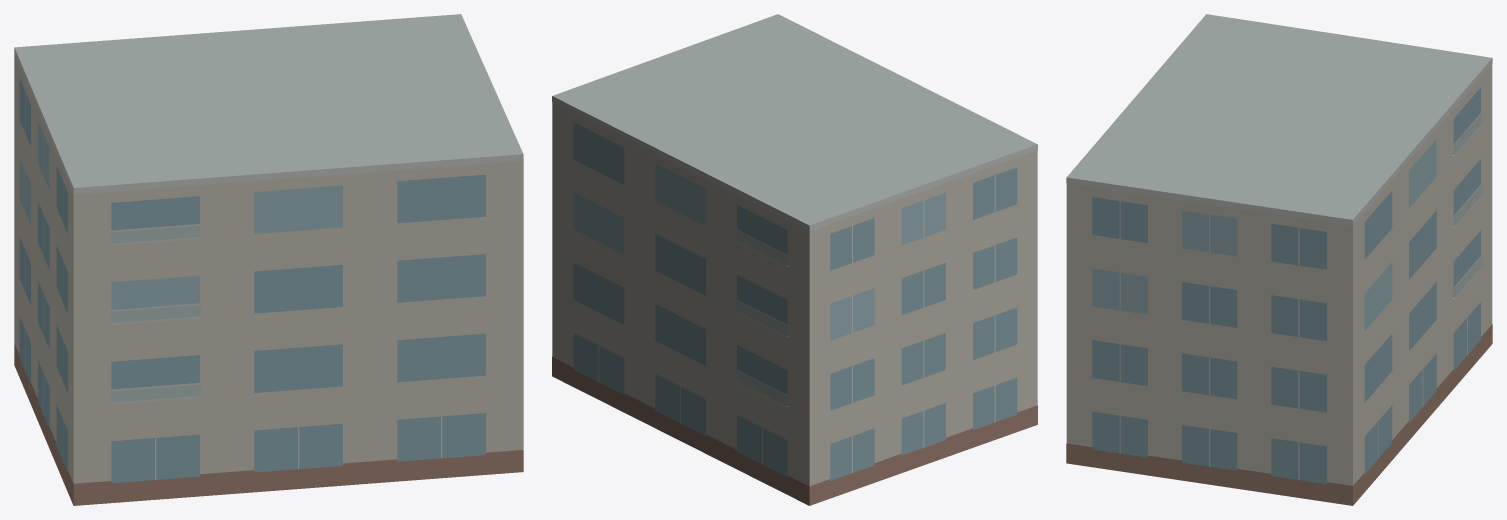
The model's file is survey-upis-32934740.glb.
The picture shows the model from 3 angles, left to right: view 1: azimuth 30°, elevation 25°; view 2: azimuth 150°, elevation 25°; view 3: azimuth 270°, elevation 25°; orthographic projection. The views are drawn at different scales.
Visible parts, largest first — view 1: survey-upis-32934740.tmp; view 2: survey-upis-32934740.tmp; view 3: survey-upis-32934740.tmp.
Boxes of the visible parts, x1,y1,x2,y2 form: survey-upis-32934740.tmp: [14, 14, 523, 505]; survey-upis-32934740.tmp: [552, 14, 1037, 505]; survey-upis-32934740.tmp: [1066, 14, 1492, 505].
Bounding box in the file's own units: 17.92 × 11.6 × 15.67.
